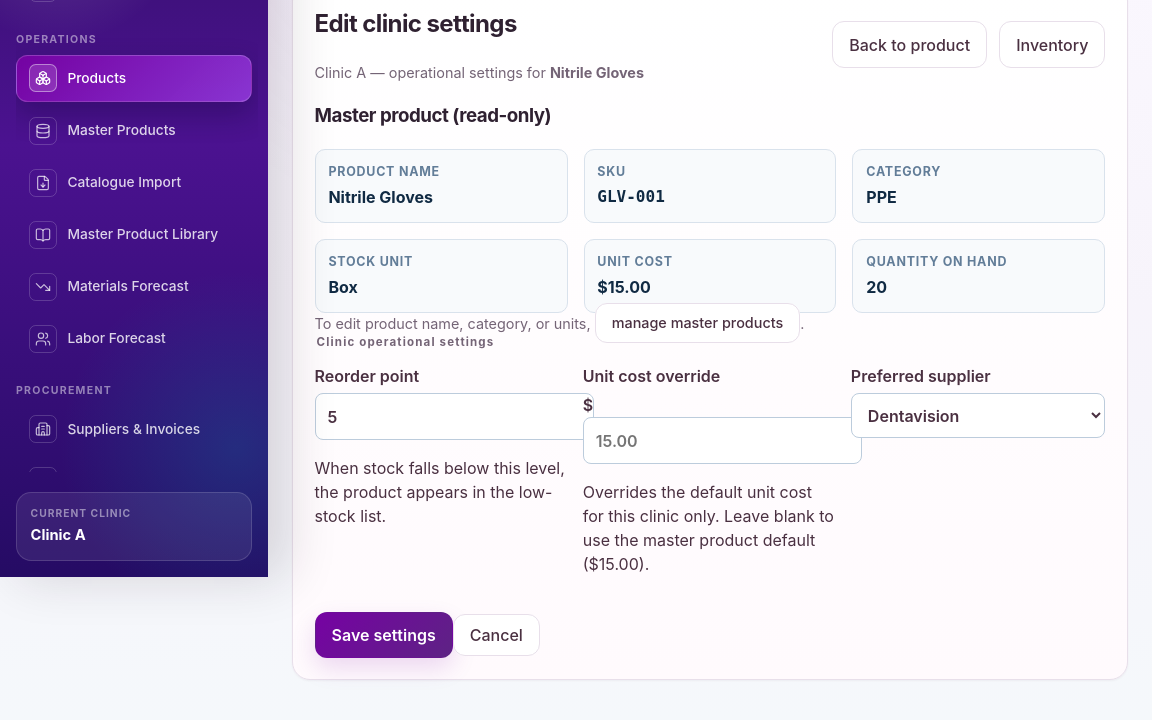
it: ClinicProductEditPage — preferred supplier (Bug 1 regression) › shows API error message when updateClinicProduct rejects
(page scrolled)
Expected: the heading "Edit clinic settings" is shown, [315,9,517,38]
Click the button "Save settings".
click(384, 635)  # box [315,612,453,658]
(page scrolled)
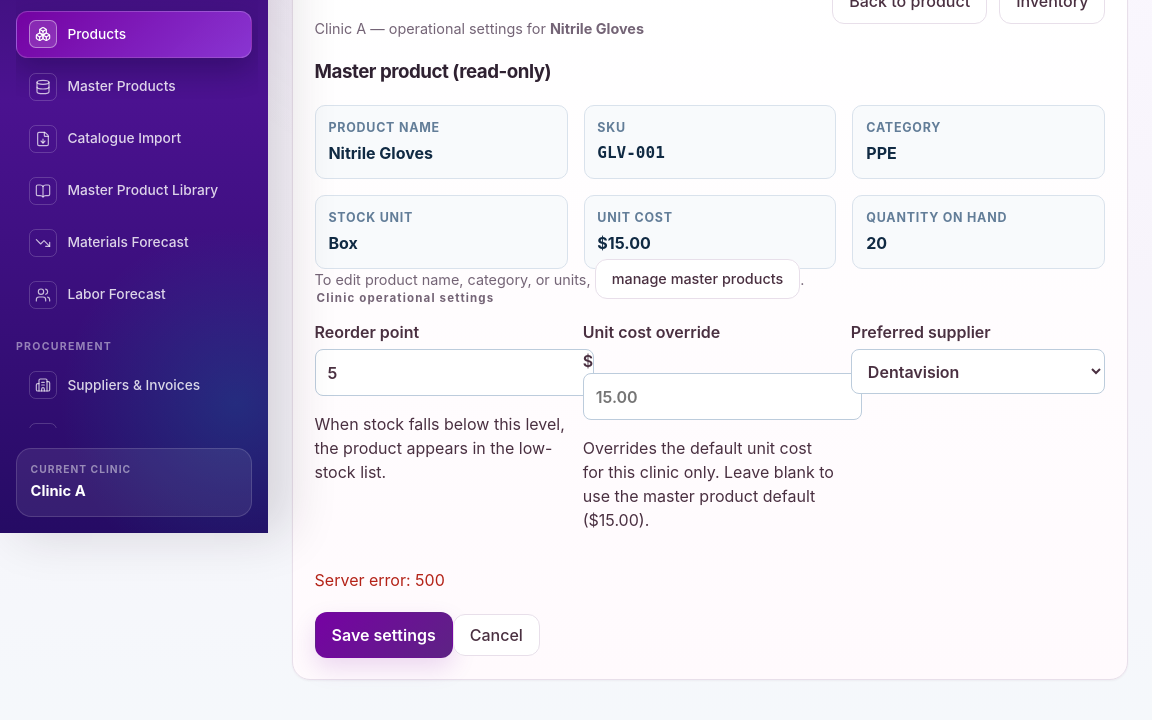
Expected: the text "Server error: 500" is shown, [315,570,445,590]
